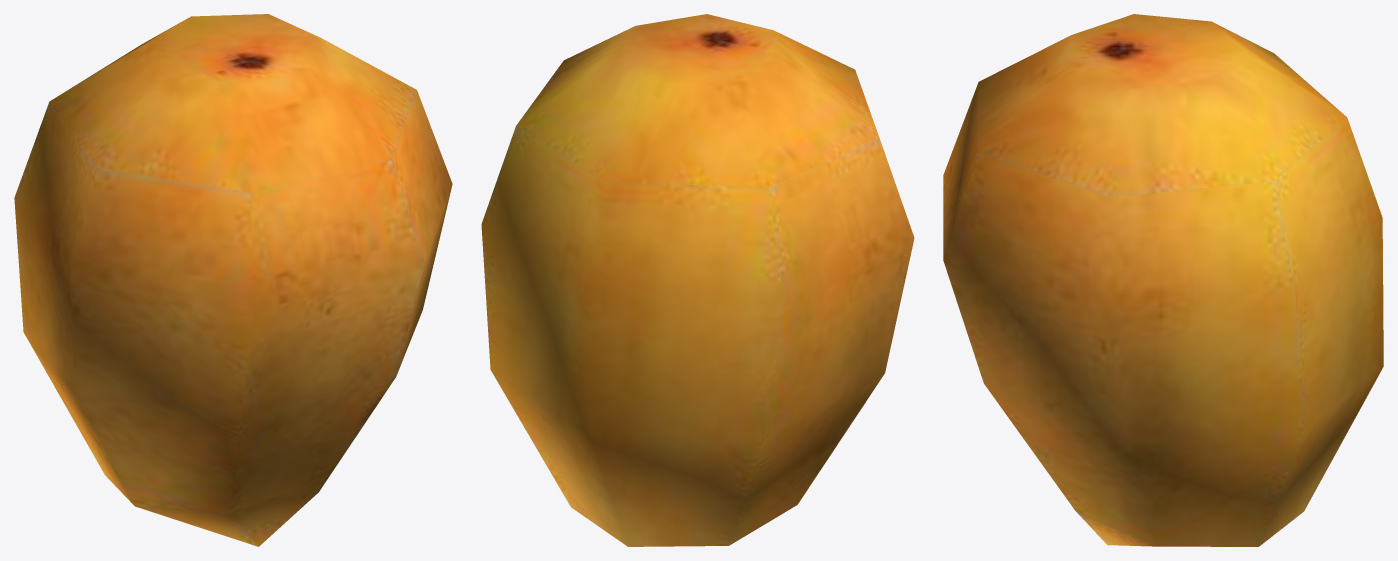
File: Mango.glb
3 renders of one model, left to right at view 1: azimuth 30°, elevation 25°; view 2: azimuth 150°, elevation 25°; view 3: azimuth 270°, elevation 25°, orthographic. The views are drawn at different scales.
Visible parts, largest first — view 1: Mango; view 2: Mango; view 3: Mango.
Boxes of the visible parts, left/top/right/bottom form: Mango: left=14, top=14, right=452, bottom=546; Mango: left=481, top=14, right=914, bottom=546; Mango: left=943, top=14, right=1383, bottom=546.
Size of the model in its own units: 0.1374 by 0.166 by 0.1343.
1 material, 1 textured.
